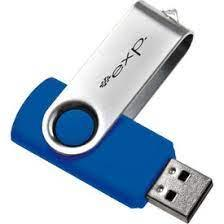USB Flash Drive: (10, 1, 212, 224)
